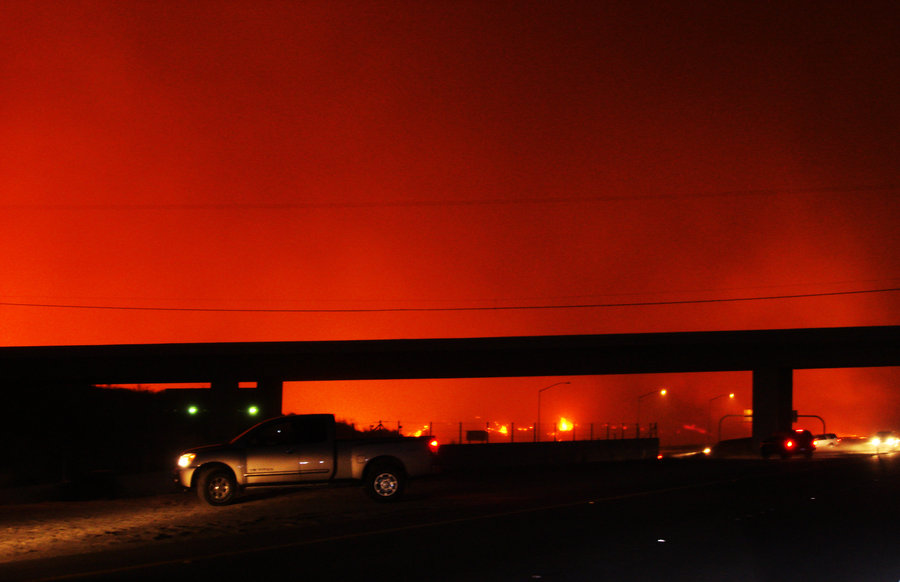car: (167, 404, 454, 514)
